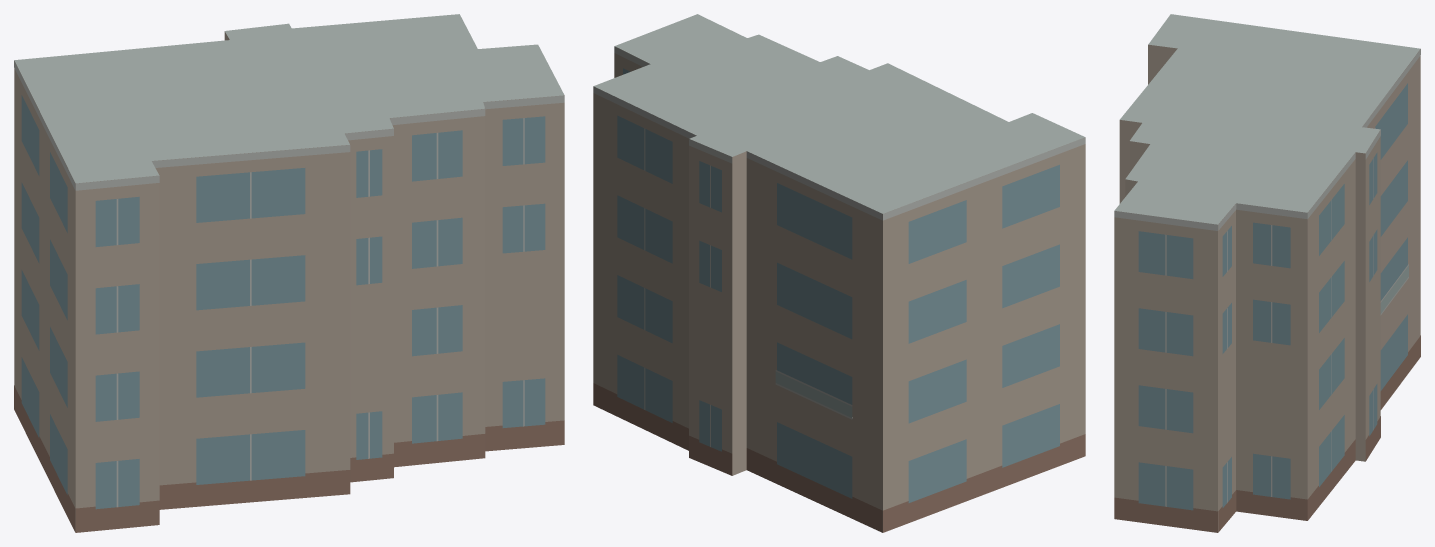
The model's file is survey-upis-32869151.glb.
3 views of the same model, side by side, from view 1: azimuth 30°, elevation 25°; view 2: azimuth 150°, elevation 25°; view 3: azimuth 270°, elevation 25° (orthographic). The views are drawn at different scales.
Parts seen in each view (by area): view 1: survey-upis-32869151.tmp; view 2: survey-upis-32869151.tmp; view 3: survey-upis-32869151.tmp.
Boxes of the visible parts, x1,y1,x2,y2 form: survey-upis-32869151.tmp: (14, 14, 564, 532); survey-upis-32869151.tmp: (593, 14, 1085, 532); survey-upis-32869151.tmp: (1114, 14, 1420, 532).
Size of the model in its own units: 17.01 by 11.6 by 10.46.
